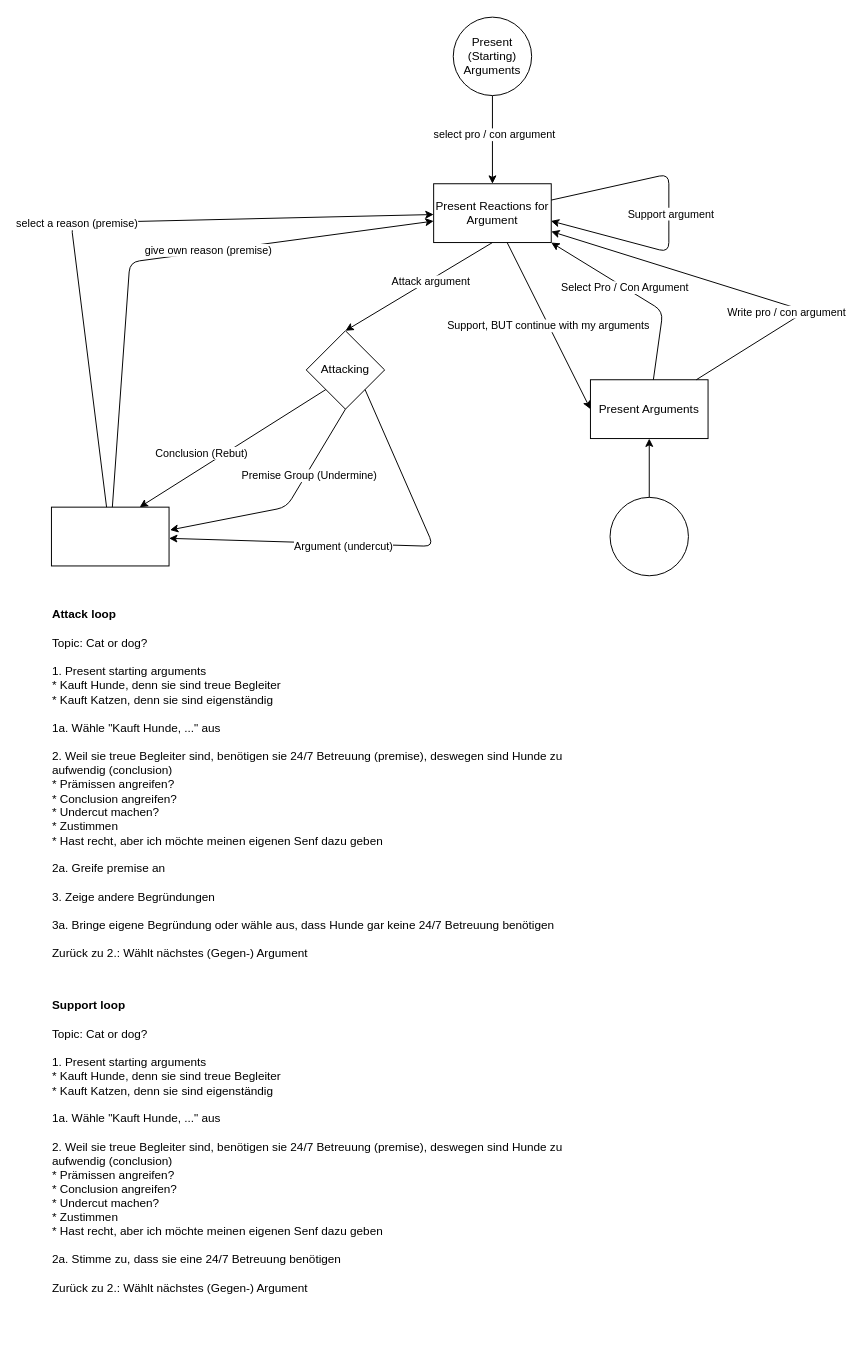
The diagram is 862 pixels wide and 1348 high, and some of its shapes have lost their labels. The shapes that lost their labels are listed below. From the top down, each one's centre as x and y in pixels, then its label:
pixel 109 536: Present Reasons (premises)
pixel 648 536: Jump
